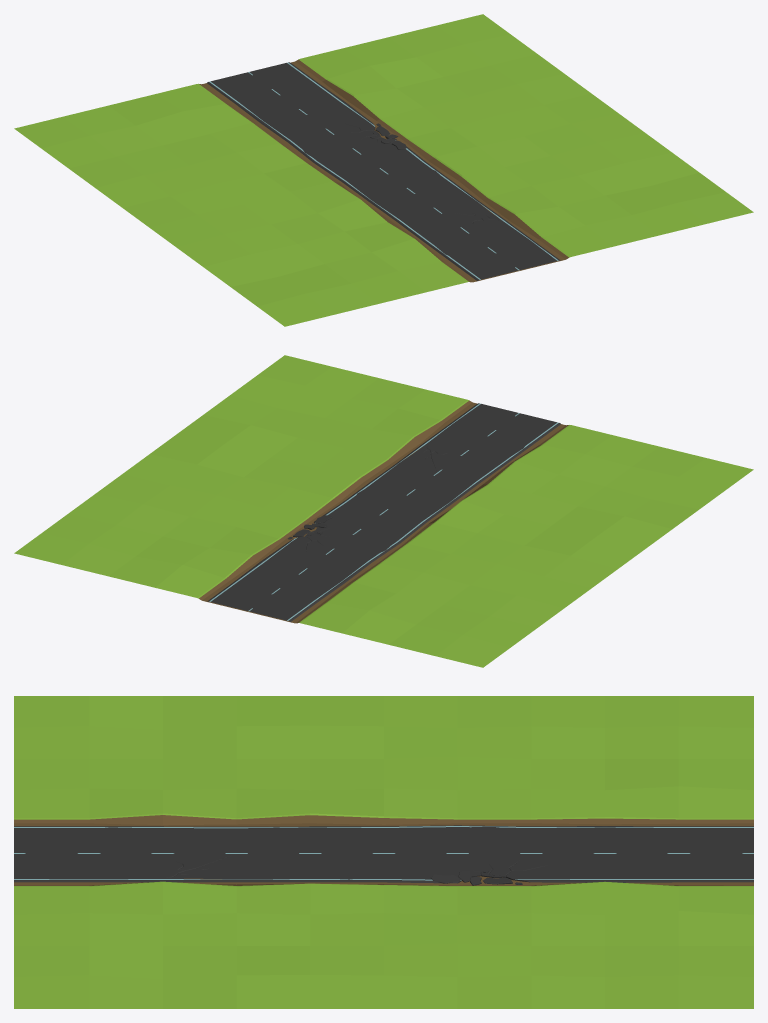
The model's file is model_road_grass_straight_02.fbx.
3 views of the same model, one above another, from view 1: azimuth 30°, elevation 25°; view 2: azimuth 150°, elevation 25°; view 3: azimuth 270°, elevation 25° (orthographic). The views are drawn at different scales.
Visible parts, largest first — view 1: model_road_grass_straight_02; view 2: model_road_grass_straight_02; view 3: model_road_grass_straight_02.
Part boxes in pixels (box(x1,y1,x2,y2)): model_road_grass_straight_02: box(14, 14, 753, 326); model_road_grass_straight_02: box(14, 355, 753, 667); model_road_grass_straight_02: box(14, 696, 753, 1008).
Bounding box in the file's own units: 6161 × 68.27 × 6161.
1 material, 1 textured.
